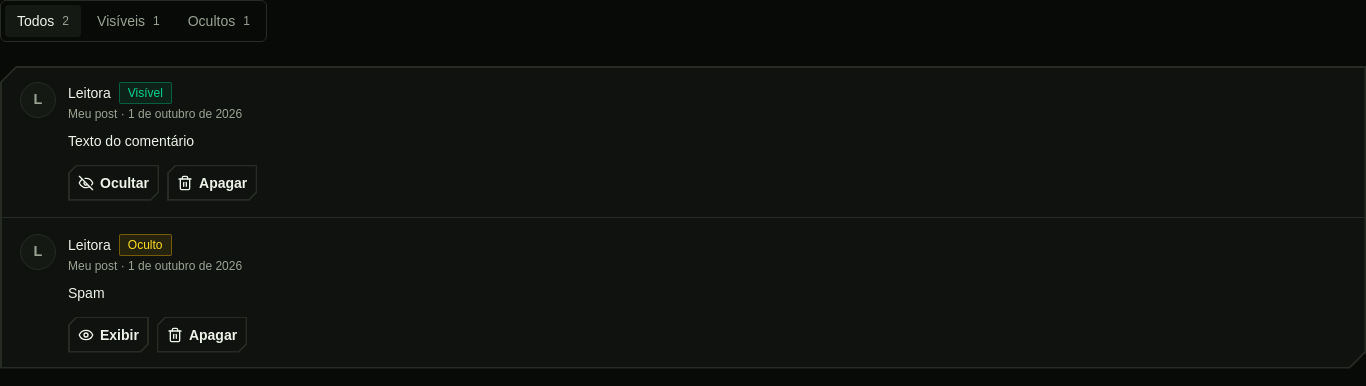
Test case: <CommentsTable /> › lista com status, post e autor; filtra ocultos
The width and height of the screenshot is (1366, 386).
Expected: the text "Texto do comentário" is shown, 68,133 -> 194,149
Expected: the text "Visível" is shown, 119,82 -> 172,104
Click the button "Ocultos 1": coordinates (219, 21) 176,5 -> 262,37
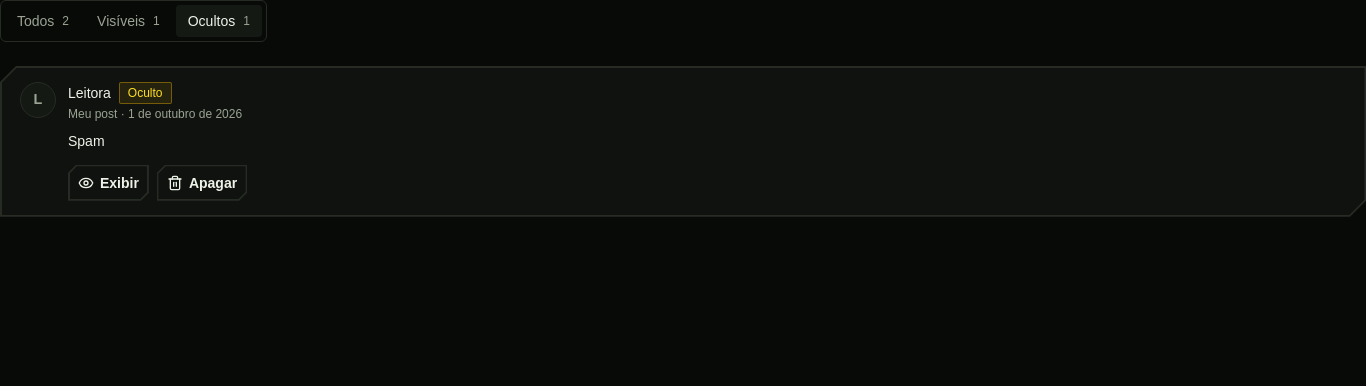
Expected: the text "Spam" is shown, 68,133 -> 105,149
Expected: the text "Texto do comentário" is gone
